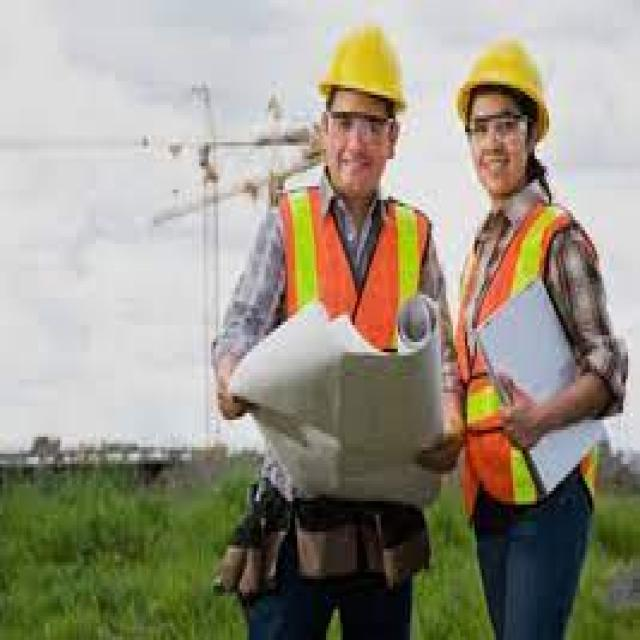glasses: (325, 103, 396, 152), (462, 108, 530, 146)
